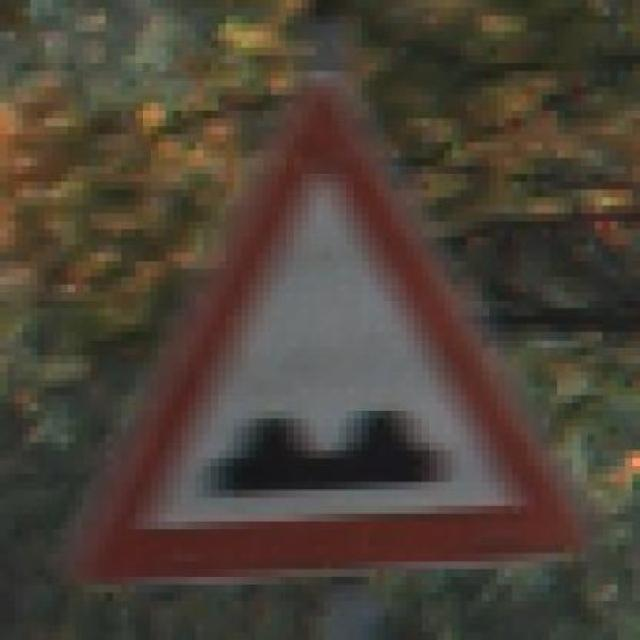Uneven Road: (75, 71, 588, 592)
